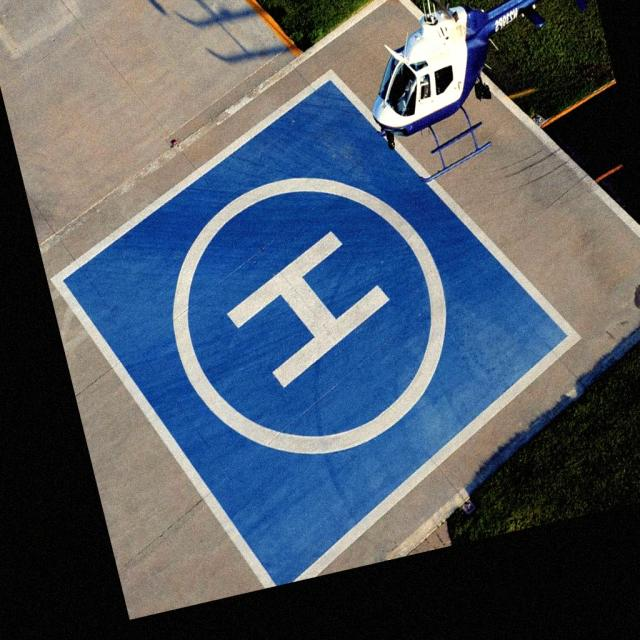helipad: (165, 174, 451, 460)
